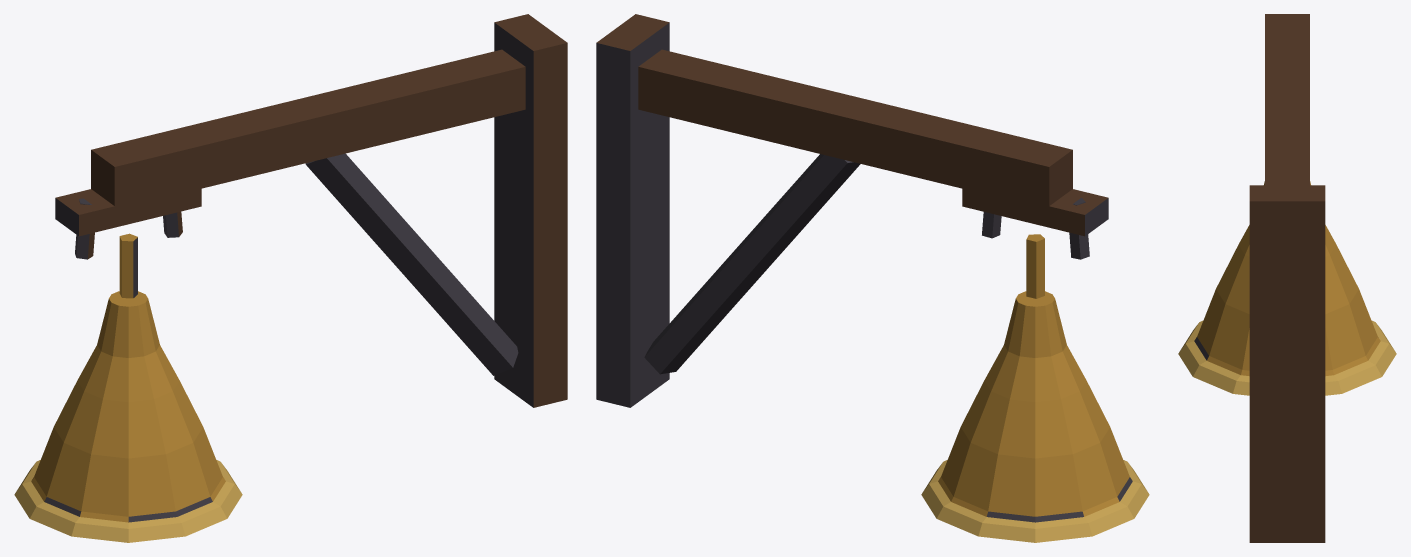
File: bell.glb
3 views of the same model, side by side, from view 1: azimuth 30°, elevation 25°; view 2: azimuth 150°, elevation 25°; view 3: azimuth 270°, elevation 25° (orthographic). The views are drawn at different scales.
Parts seen in each view (by area): view 1: BellBracket.001, Bell.001; view 2: BellBracket.001, Bell.001; view 3: BellBracket.001, Bell.001.
Boxes of the visible parts, x1,y1,x2,y2 form: BellBracket.001: (55, 14, 567, 407); Bell.001: (14, 233, 242, 542); BellBracket.001: (596, 14, 1108, 407); Bell.001: (921, 234, 1149, 542); BellBracket.001: (1249, 14, 1325, 542); Bell.001: (1178, 181, 1396, 395).
Bounding box in the file's own units: 1.52 × 1.03 × 0.58.
